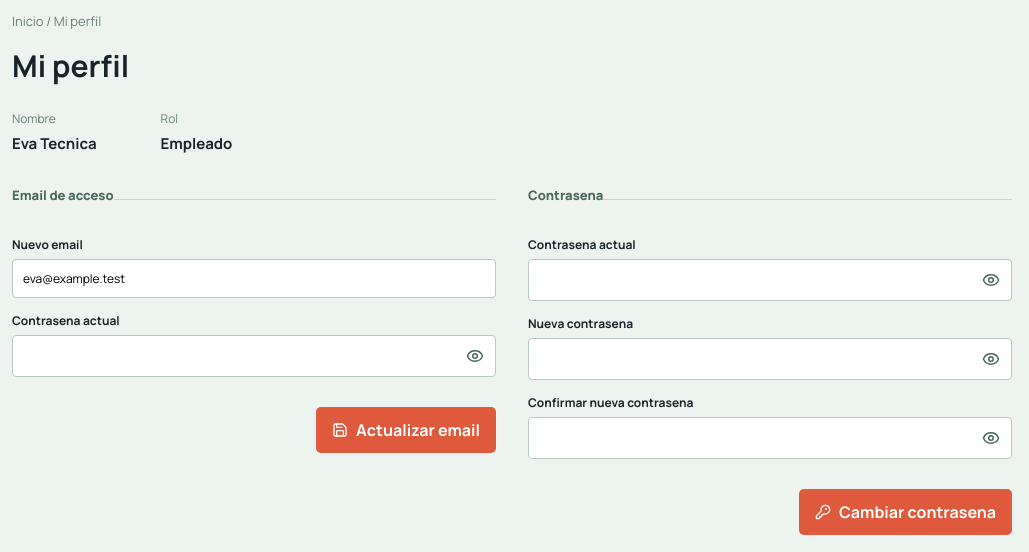
Test: perfil propio › rechaza email invalido o ausencia de contrasena actual antes de enviar
Replace the text in the field named "Nuevo email" with "invalid" at [254, 279], box [12,259,496,298]
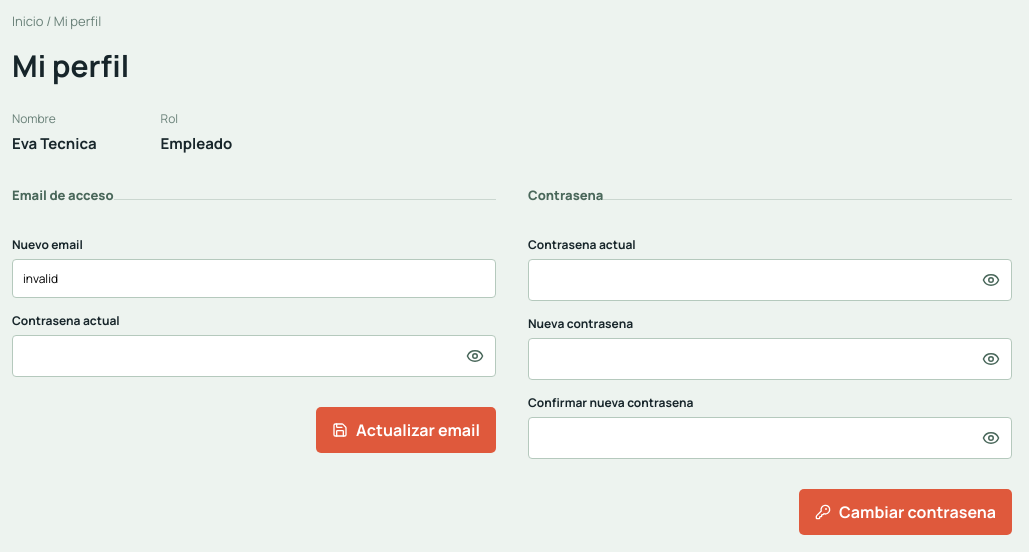
Submit the form with id "email-form", box [12,186,496,467]
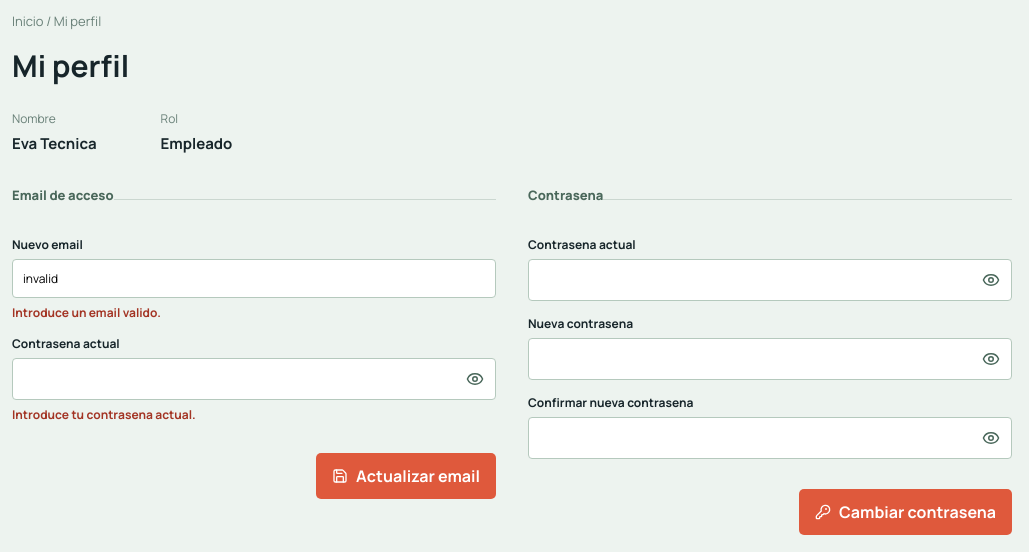
Expected: the text with id "email-error" shows "valido", [12,304,161,321]
Expected: the text with id "email-password-error" shows "actual", [12,406,196,423]
